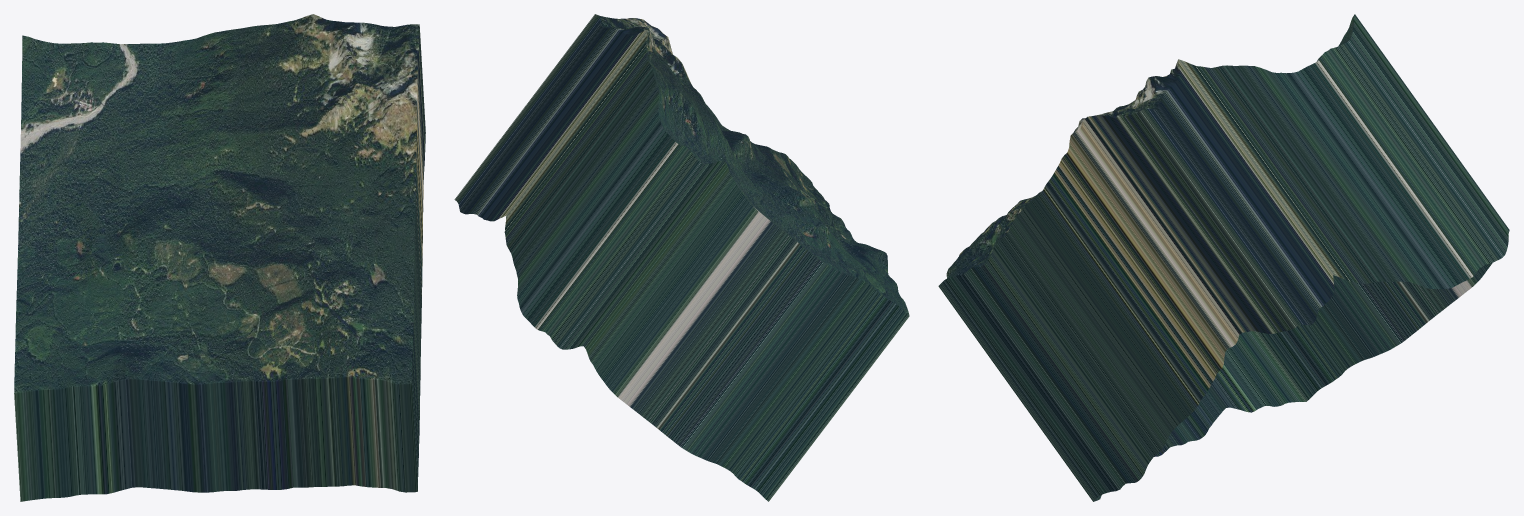
The picture shows the model from 3 angles, left to right: view 1: azimuth 30°, elevation 25°; view 2: azimuth 150°, elevation 25°; view 3: azimuth 270°, elevation 25°; orthographic projection. The views are drawn at different scales.
Size of the model in its own units: 5826 by 5503 by 6448.
1 material, 1 textured.
